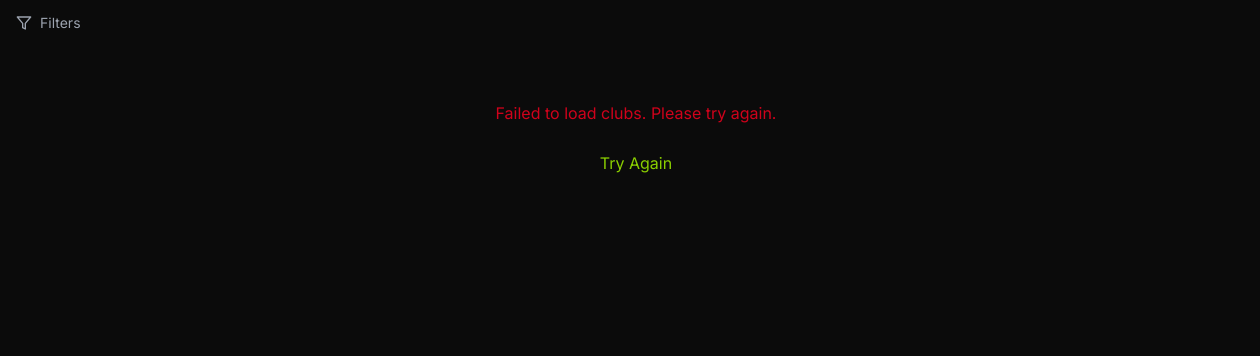
Test: venue list loading and retry flows › retries clubs list after initial failure
Expected: the text "Failed to load clubs. Please try again." is shown, [496,103,776,123]
Click the button "Try Again" at (636, 163), box [584,141,688,185]
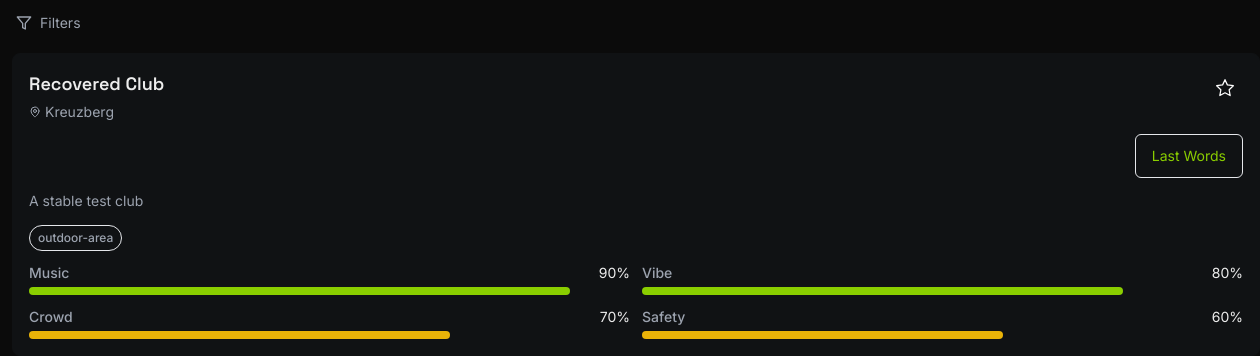
Expected: the heading "Recovered Club" is shown, [29,70,164,98]
